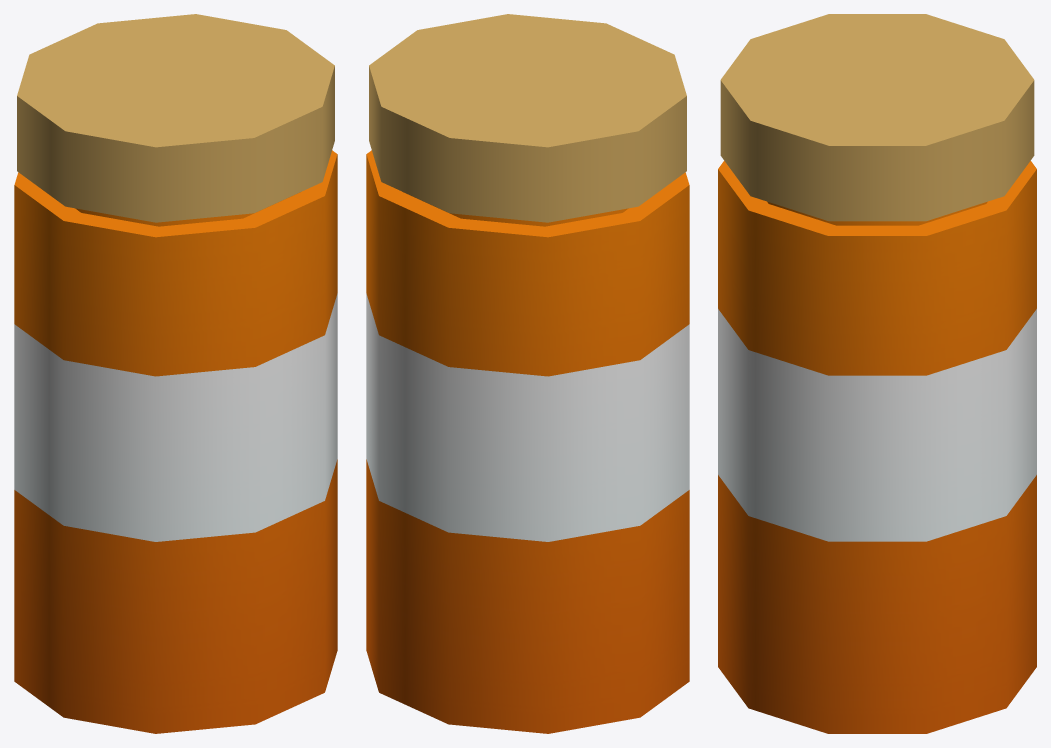
The model's file is flask_orange.fbx.
The picture shows the model from 3 angles, left to right: view 1: azimuth 30°, elevation 25°; view 2: azimuth 150°, elevation 25°; view 3: azimuth 270°, elevation 25°; orthographic projection.
Visible parts, largest first — view 1: flask_orange; view 2: flask_orange; view 3: flask_orange.
Boxes of the visible parts, box(x1,y1,x2,y2) form: flask_orange: box(14, 14, 337, 733); flask_orange: box(366, 14, 689, 733); flask_orange: box(718, 14, 1036, 733).
Bounding box in the file's own units: 133 × 272 × 134.
